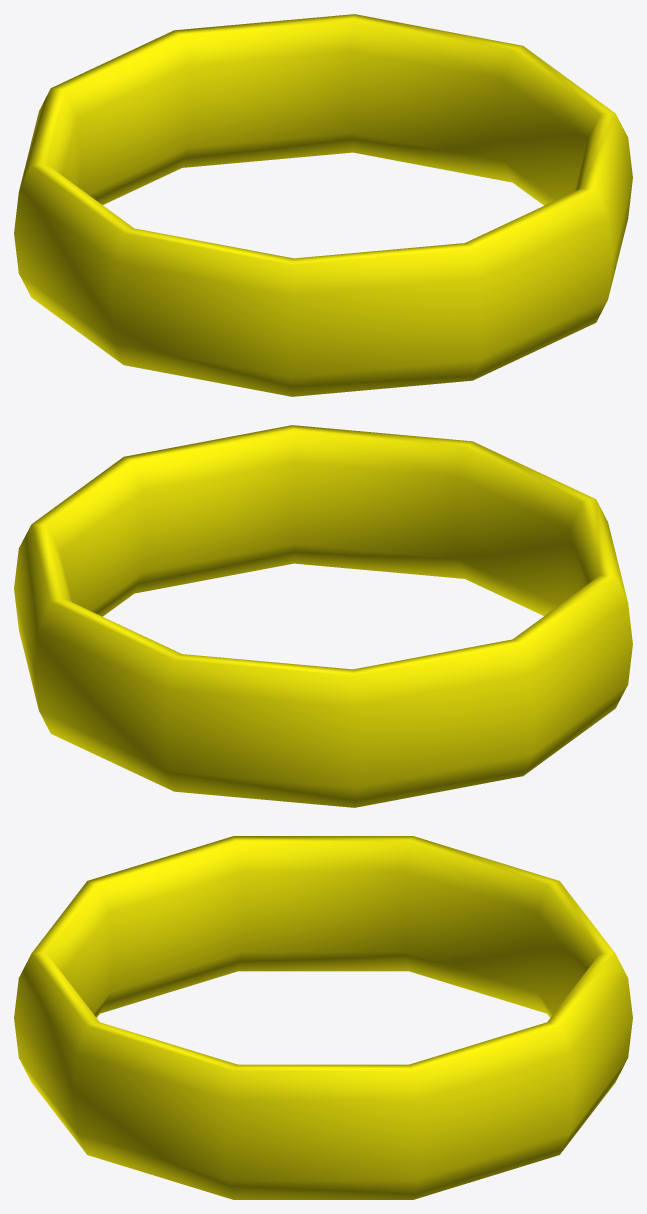
File: The One Ring.FBX
3 renders of one model, top to bottom at view 1: azimuth 30°, elevation 25°; view 2: azimuth 150°, elevation 25°; view 3: azimuth 270°, elevation 25°, orthographic. The views are drawn at different scales.
Visible parts, largest first — view 1: Ring; view 2: Ring; view 3: Ring.
Part boxes in pixels (x1,y1,x2,y2): Ring: [14, 14, 632, 396]; Ring: [14, 425, 632, 807]; Ring: [14, 836, 632, 1199].
Size of the model in its own units: 1.84 by 0.4441 by 1.93.
